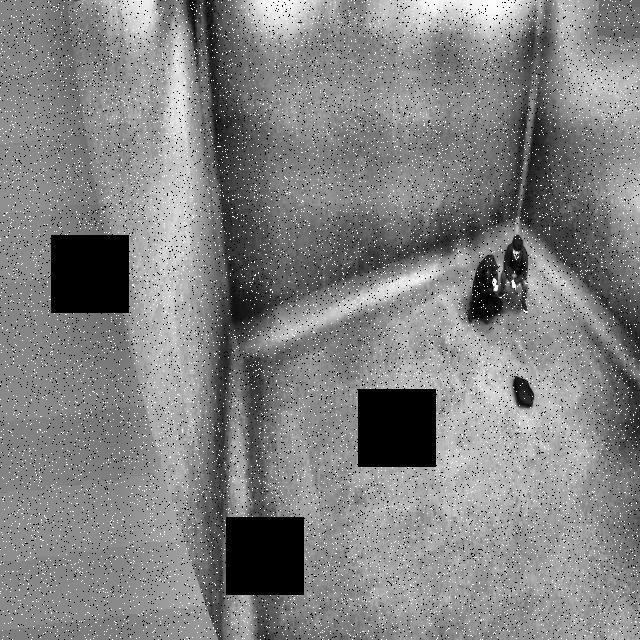assult: (469, 230, 535, 334)
